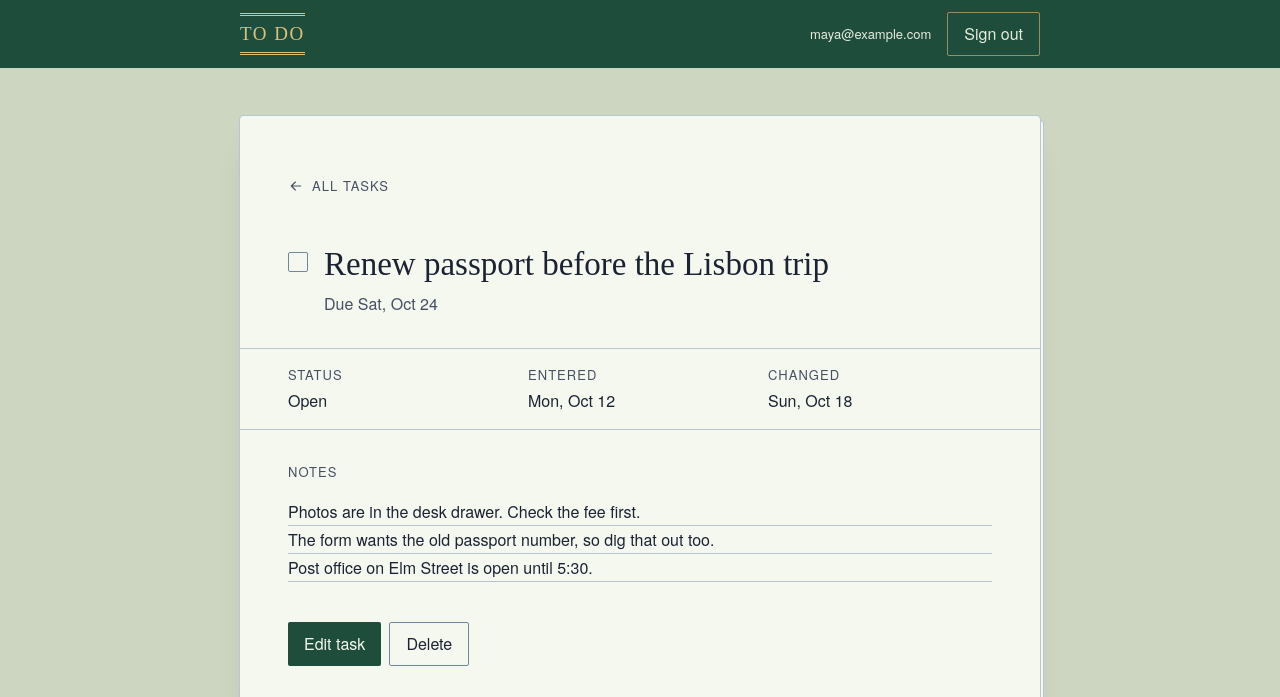
TaskDetailPage › shows changed elsewhere after a 412
The image size is (1280, 697).
Step 1. Click the button "Edit task" → x=335, y=644, box 288,622 -> 381,666
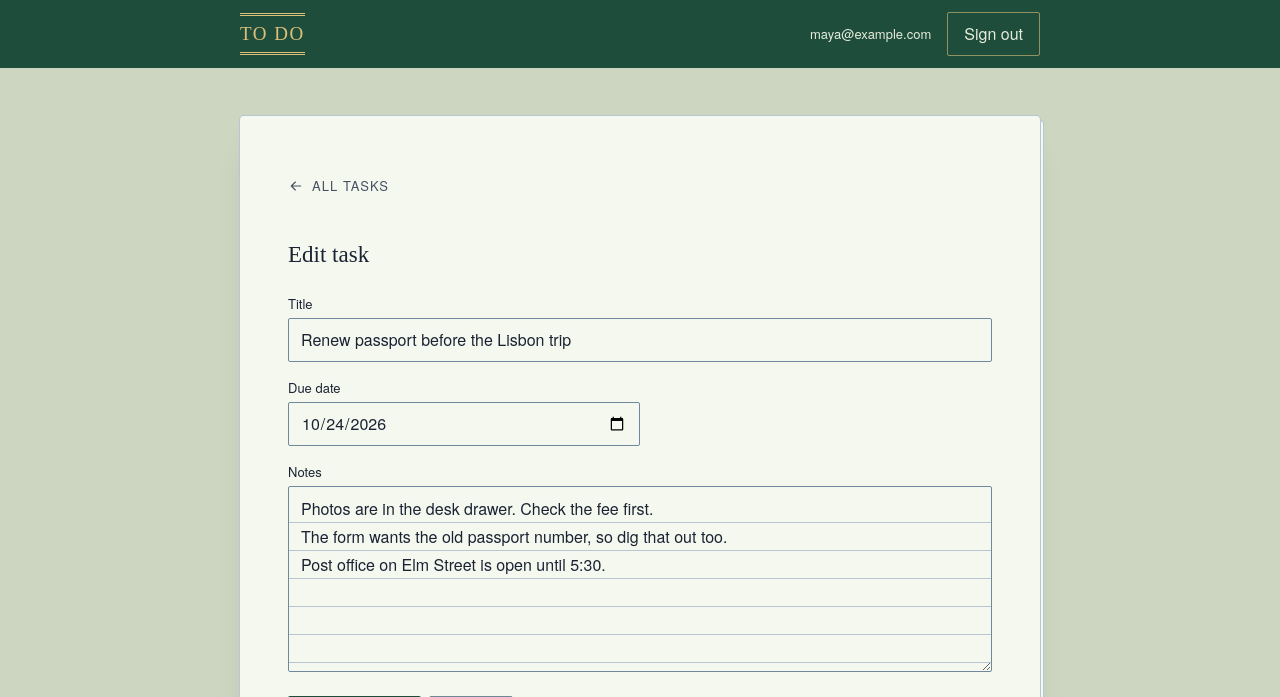
Step 2. Replace the text in the field labelled "Title" with "My title" → x=640, y=340, box 288,318 -> 992,362
(page scrolled)
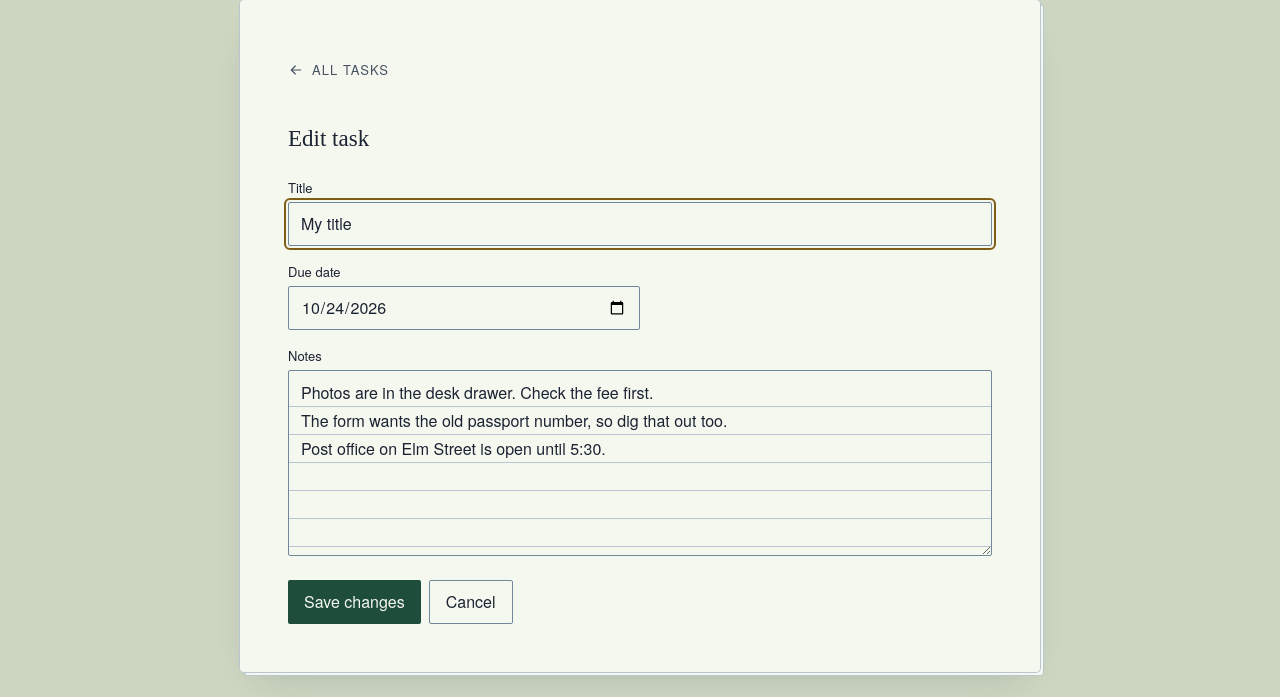
Step 3. Click the button "Save changes" → x=354, y=602, box 288,580 -> 421,624
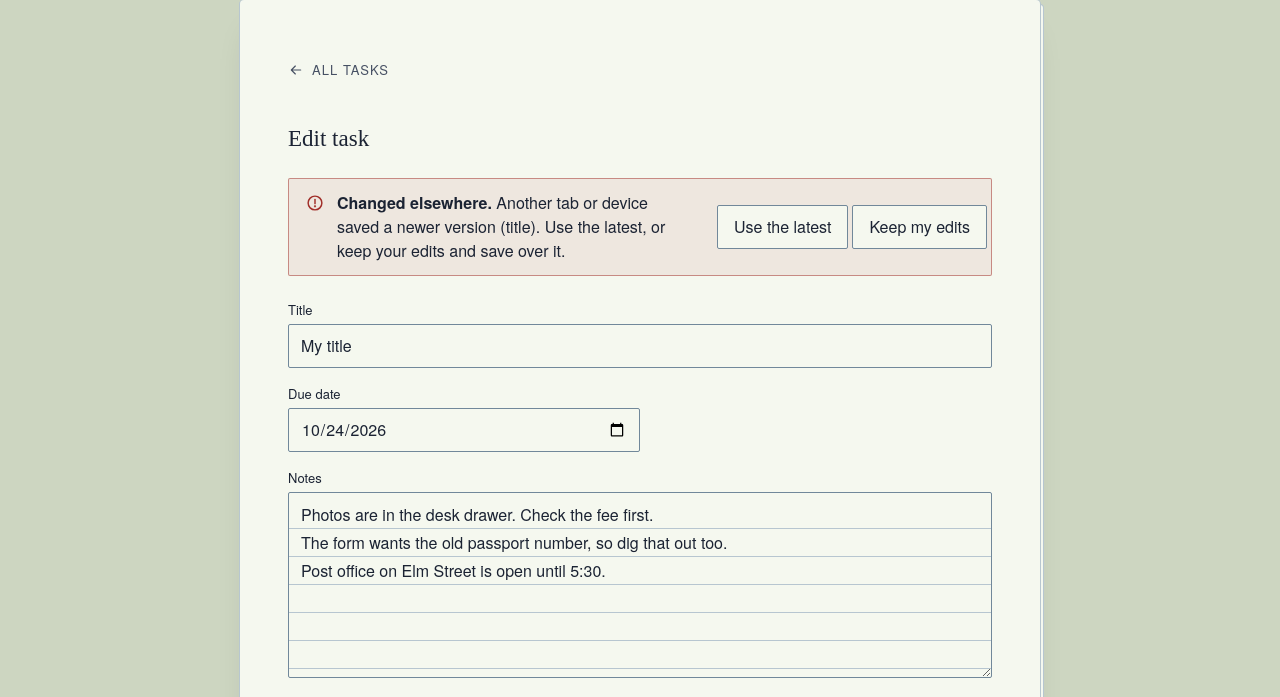
Expected: the message shows "Changed elsewhere", 337,191 -> 492,214
